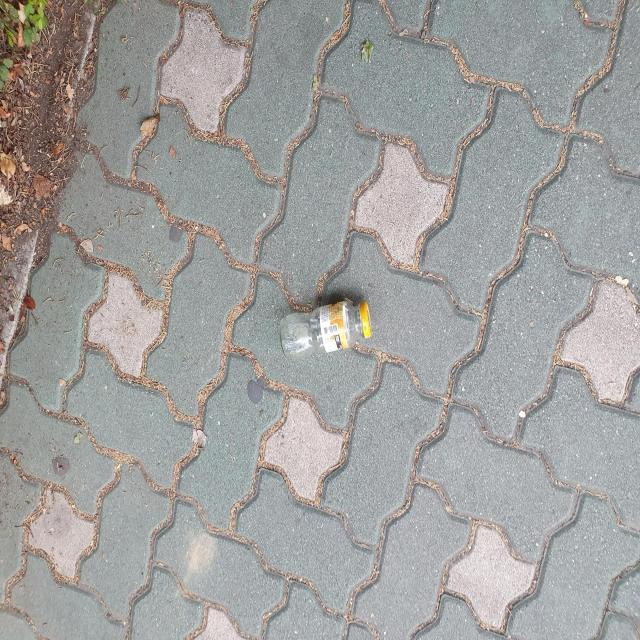glass: (280, 300, 372, 359)
